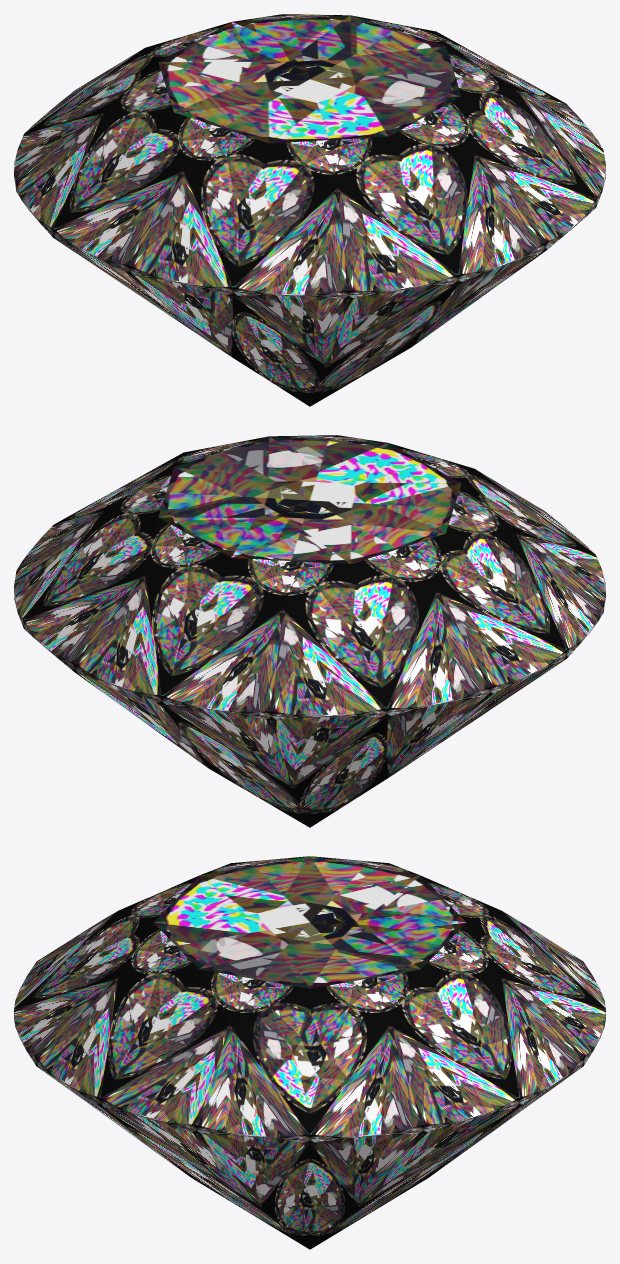
File: diamond_shine1.glb
3 renders of one model, top to bottom at view 1: azimuth 30°, elevation 25°; view 2: azimuth 150°, elevation 25°; view 3: azimuth 270°, elevation 25°, orthographic.
Parts seen in each view (by area): view 1: diamond_big1; view 2: diamond_big1; view 3: diamond_big1.
Boxes of the visible parts, x1,y1,x2,y2 form: diamond_big1: (14,14,605,406); diamond_big1: (14,435,605,827); diamond_big1: (14,856,605,1249).
Bounding box in the file's own units: 2 × 1.22 × 2.
1 material, 1 textured.
